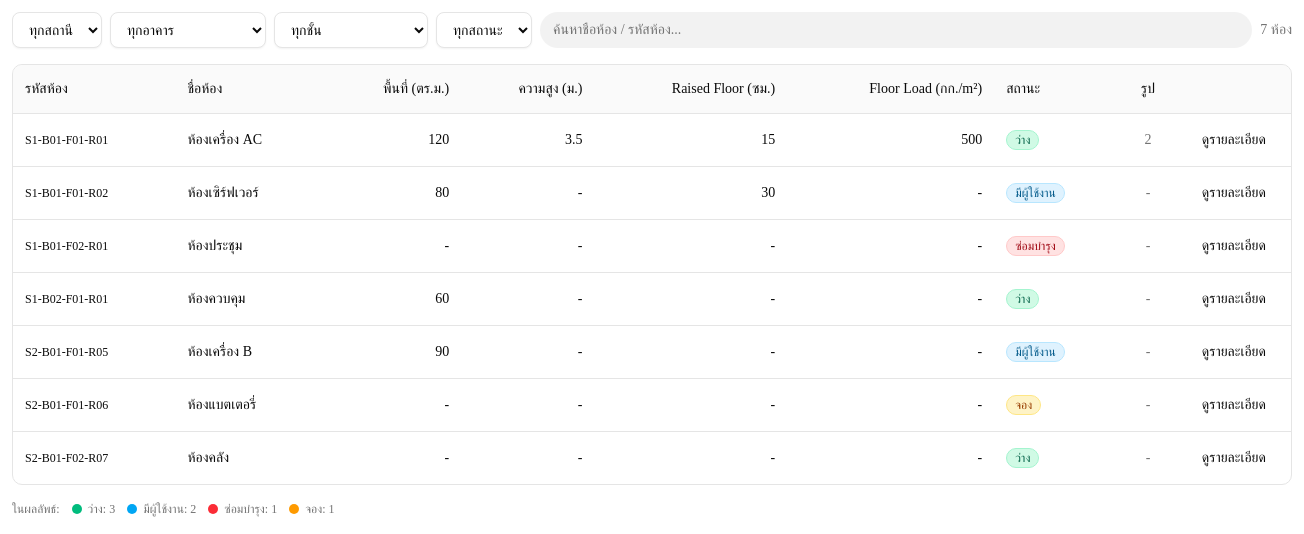
Test: RoomsClient › filters rooms by building within a site
Select "S1" in the 1st dropdown at x=57, y=30, box [12, 12, 102, 48]
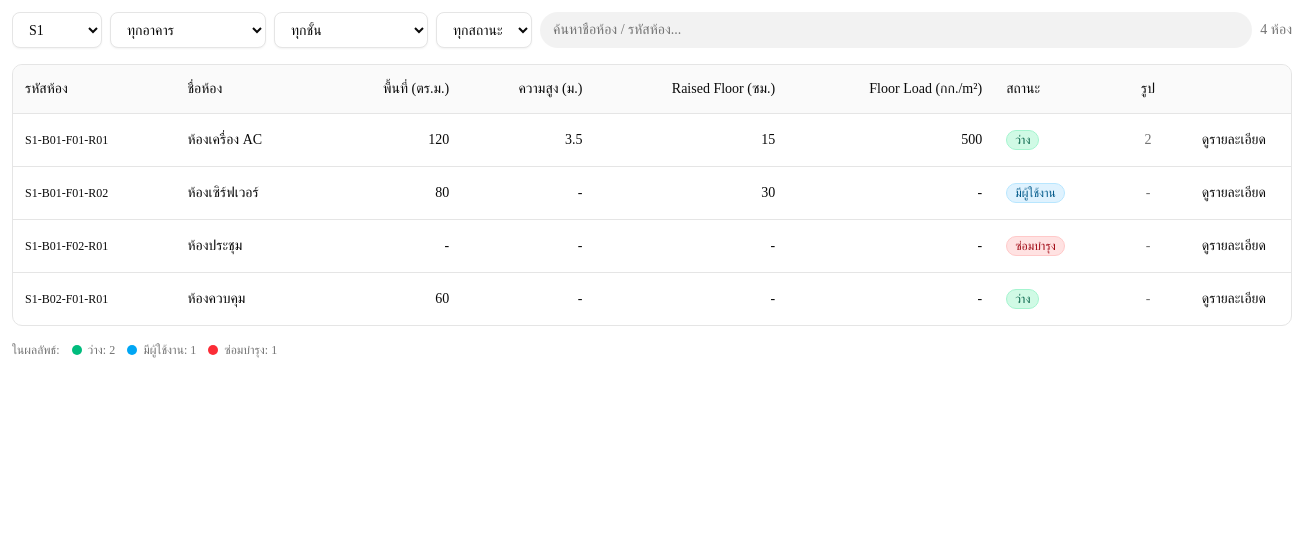
Select "S1-B02 (อาคารรอง)" in the 2nd dropdown at x=188, y=30, box [110, 12, 266, 48]
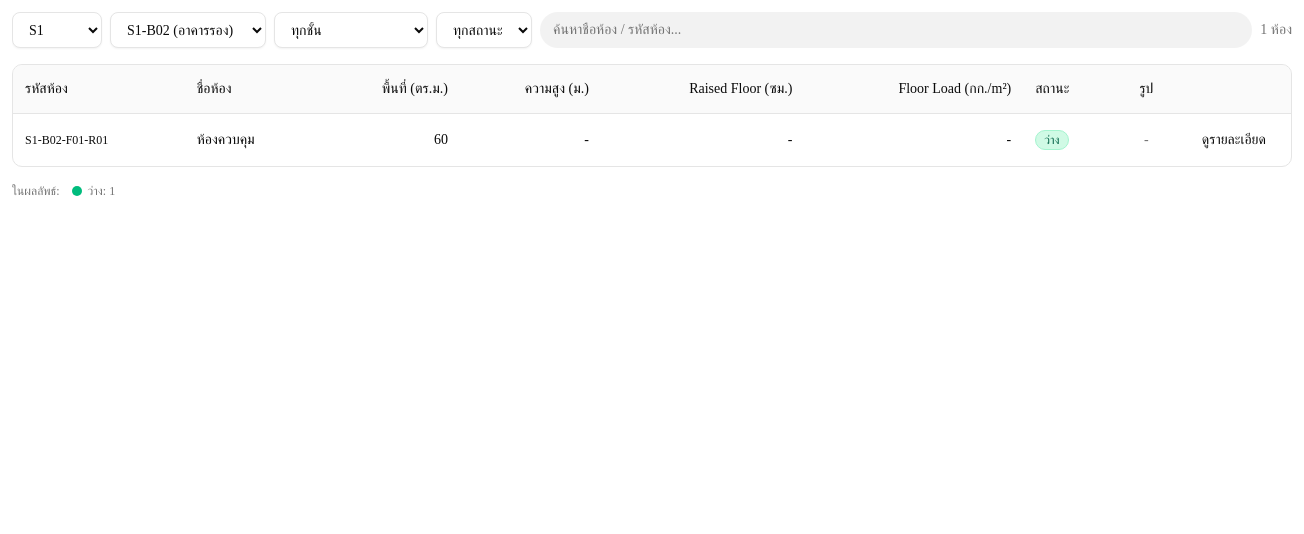
Expected: the text "ห้องควบคุม" is shown, [185, 113, 316, 166]
Expected: the text "1 ห้อง" is shown, [1260, 20, 1292, 40]
Expected: the text "S1-B01-F01-R01" is gone
